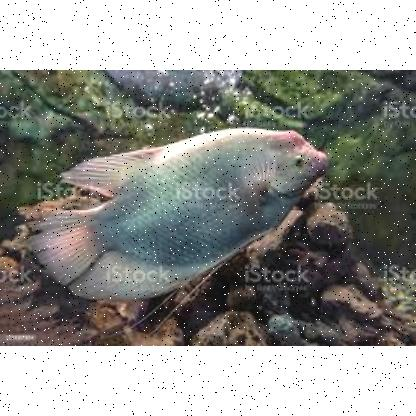gurame: (34, 127, 330, 300)
